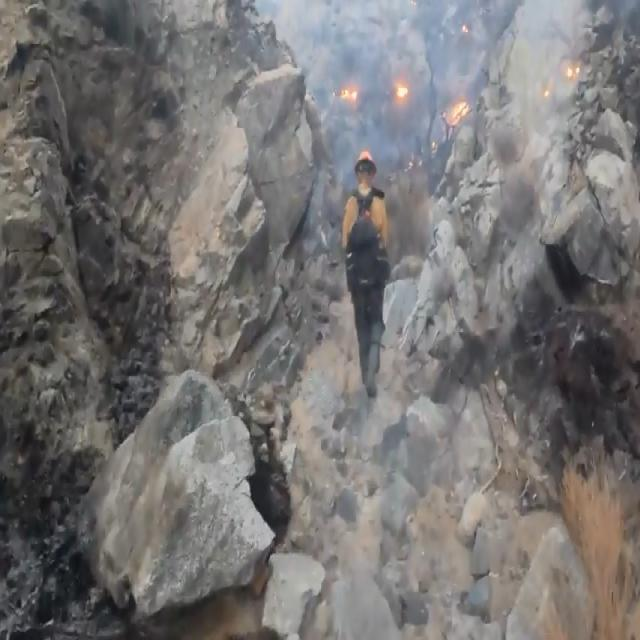Fire: (338, 74, 470, 128)
